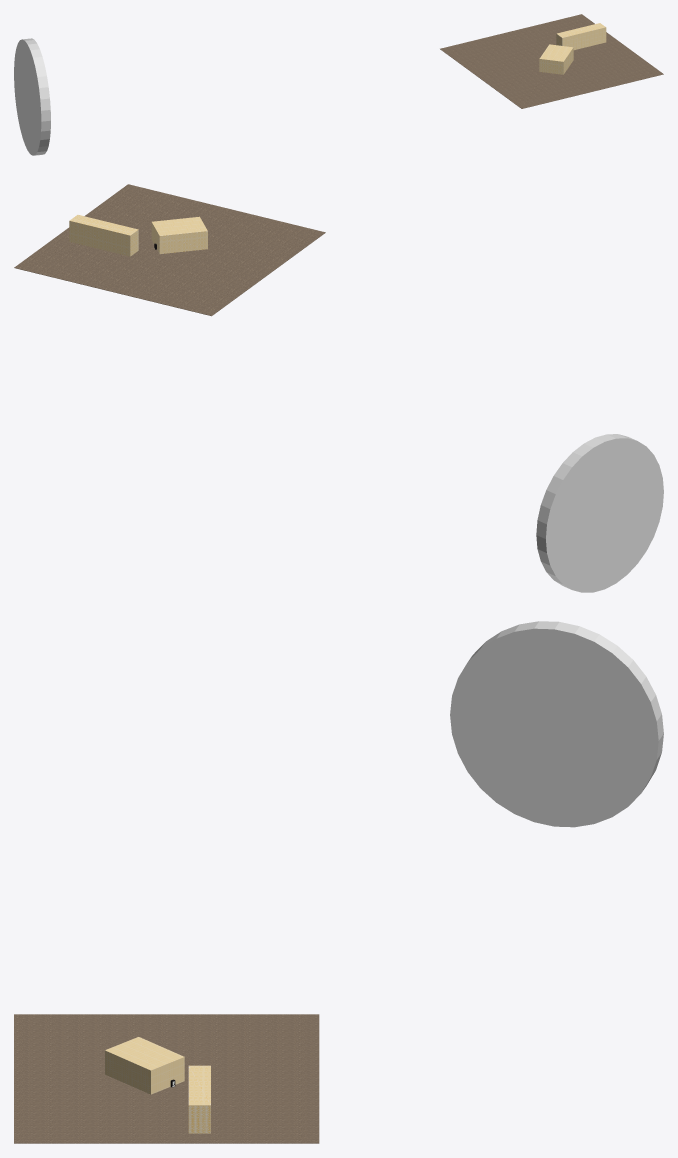
3 renders of one model, top to bottom at view 1: azimuth 30°, elevation 25°; view 2: azimuth 150°, elevation 25°; view 3: azimuth 270°, elevation 25°, orthographic. The views are drawn at different scales.
Parts seen in each view (by area): view 1: ground, Circle.008, Cube.001, Cube.002; view 2: ground, Circle.008, Cube.001, Cube.002; view 3: ground, Circle.008, Cube.002, Cube.001.
Part boxes in pixels (box(x1,y1,x2,y2)): ground: box(440, 14, 663, 108); Circle.008: box(14, 38, 50, 155); Cube.001: box(556, 23, 606, 50); Cube.002: box(539, 44, 573, 74); ground: box(14, 184, 325, 316); Circle.008: box(536, 434, 663, 592); Cube.001: box(69, 215, 138, 256); Cube.002: box(151, 216, 207, 254); ground: box(14, 1014, 319, 1143); Circle.008: box(450, 621, 663, 827); Cube.002: box(105, 1037, 184, 1094); Cube.001: box(188, 1065, 210, 1133).
Bounding box in the file's own units: 653 × 131 × 392.
9 materials, 9 textured.
